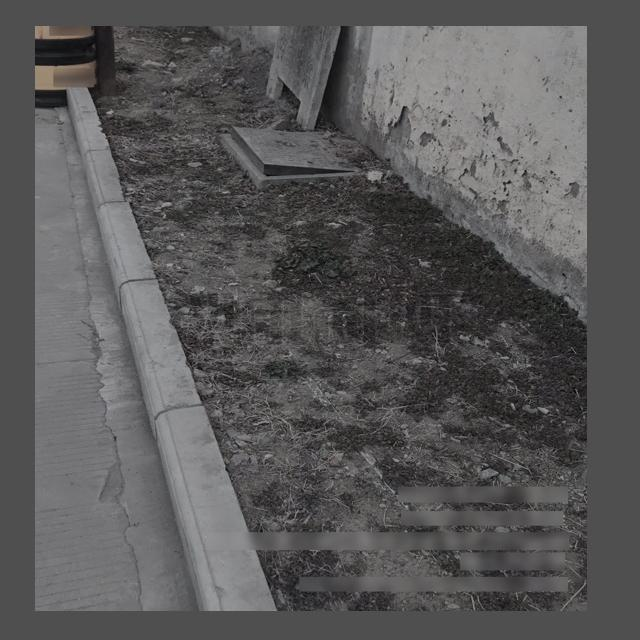uncovered: (220, 126, 366, 186)
